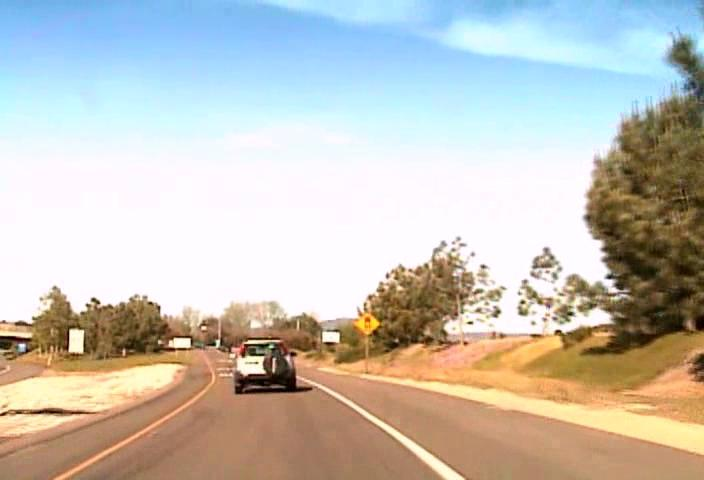signalAhead: (353, 312, 380, 335)
